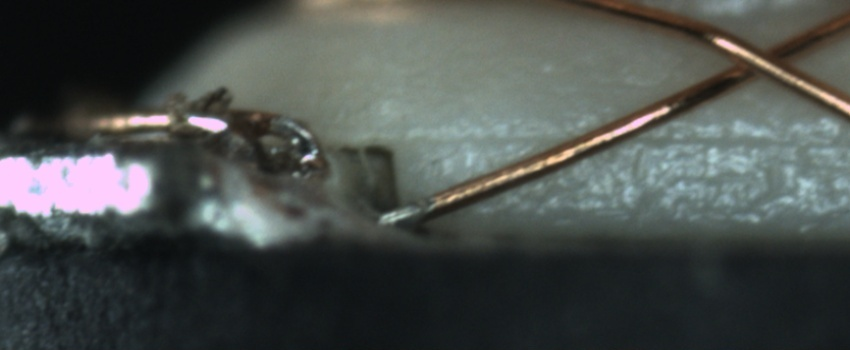CL: (707, 26, 813, 92)
DL: (398, 106, 850, 173)
TE: (56, 97, 328, 188)
TS: (377, 195, 435, 227)
